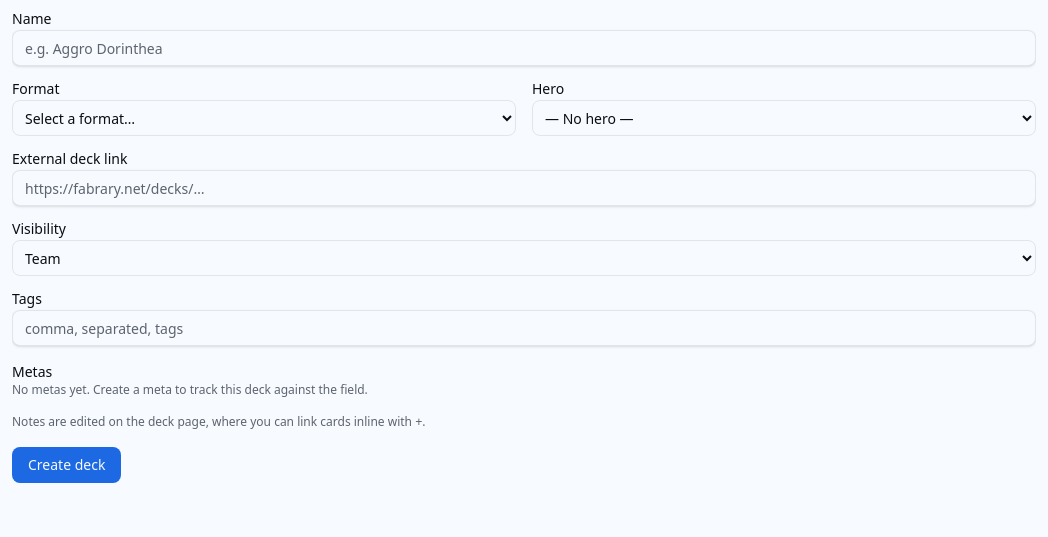
DeckForm › validates that a format is required once a name is present
The image size is (1048, 537).
In the field labelled "Name": (524, 48) [12, 30, 1036, 66], type "Aggro Dori"
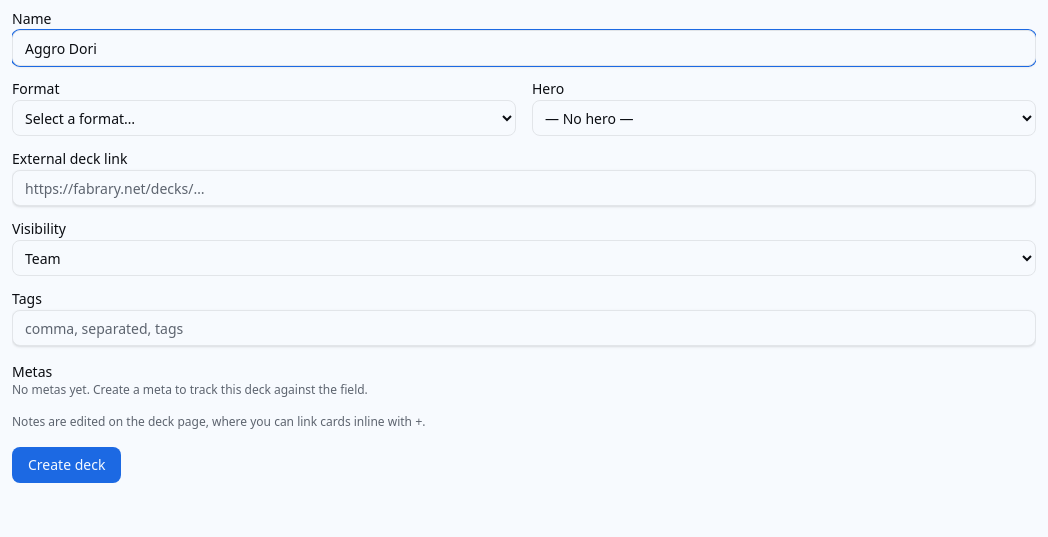
Click the button "Create deck": (67, 465) [12, 447, 121, 483]
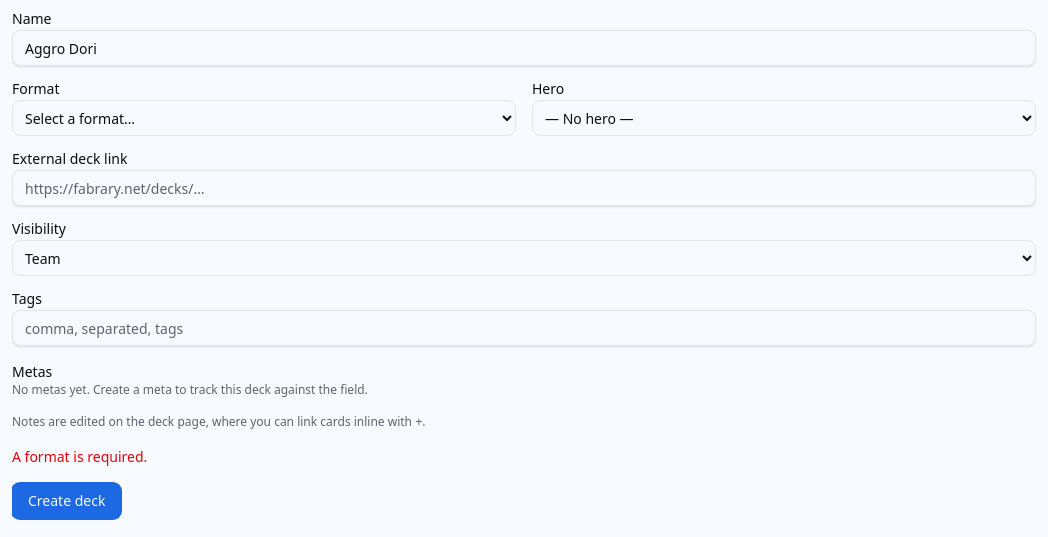
Result: the message shows "format is required" at [12, 447, 147, 466]
